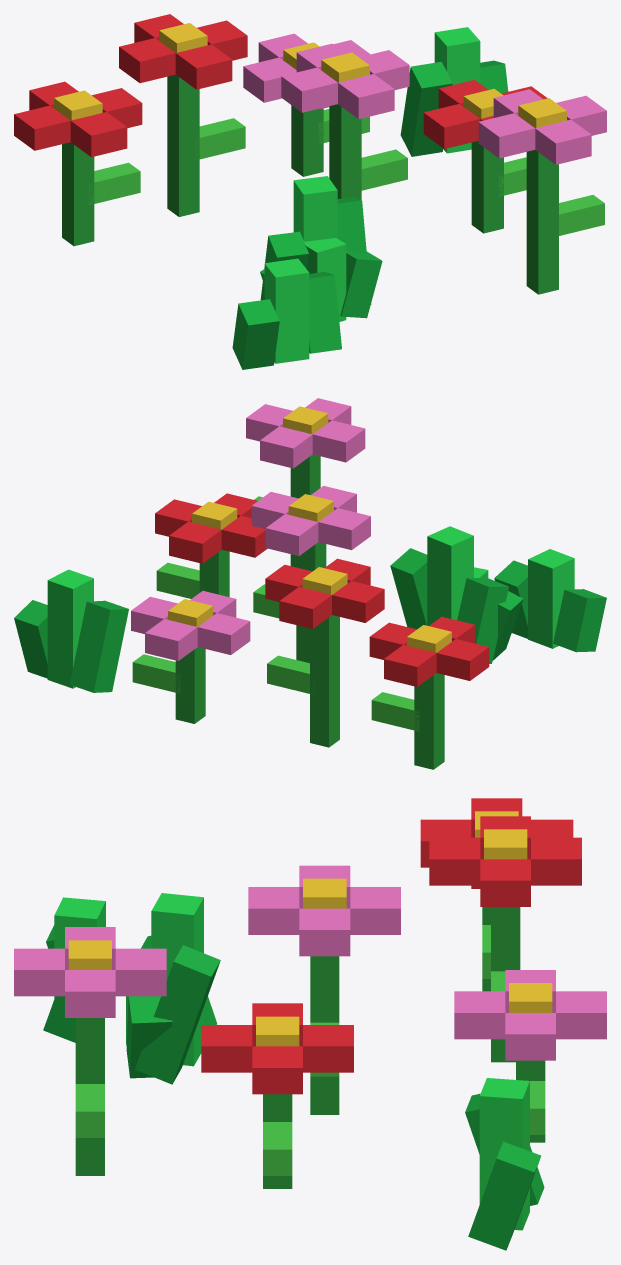
File: FlowerPatch.fbx
The picture shows the model from 3 angles, top to bottom: view 1: azimuth 30°, elevation 25°; view 2: azimuth 150°, elevation 25°; view 3: azimuth 270°, elevation 25°; orthographic projection. The views are drawn at different scales.
Visible parts, largest first — view 1: LeafDark.002, FlowerRed, FlowerPink.001, GrassDark.009, Grass.009, LeafGreen.005, Yellow; view 2: FlowerPink.001, GrassDark.009, FlowerRed, LeafDark.002, Grass.009, LeafGreen.005, Yellow; view 3: FlowerPink.001, FlowerRed, GrassDark.009, LeafDark.002, Grass.009, Yellow, LeafGreen.005.
Boxes of the visible parts, x1,y1,x2,y2 form: LeafDark.002: [62, 74, 558, 294]; FlowerRed: [14, 14, 547, 157]; FlowerPink.001: [243, 33, 606, 164]; GrassDark.009: [232, 60, 508, 369]; Grass.009: [264, 27, 480, 363]; LeafGreen.005: [89, 109, 604, 235]; Yellow: [54, 23, 566, 128]; FlowerPink.001: [131, 398, 370, 660]; GrassDark.009: [14, 548, 606, 692]; FlowerRed: [155, 493, 489, 686]; LeafDark.002: [175, 454, 444, 769]; Grass.009: [47, 526, 574, 688]; LeafGreen.005: [132, 496, 419, 731]; Yellow: [168, 406, 451, 652]; FlowerPink.001: [14, 865, 606, 1060]; FlowerRed: [201, 798, 581, 1094]; GrassDark.009: [43, 925, 544, 1250]; LeafDark.002: [75, 907, 545, 1188]; Grass.009: [54, 893, 529, 1230]; Yellow: [68, 811, 552, 1046]; LeafGreen.005: [75, 925, 545, 1175].
Bounding box in the file's own units: 4.73 × 1.71 × 4.08.
